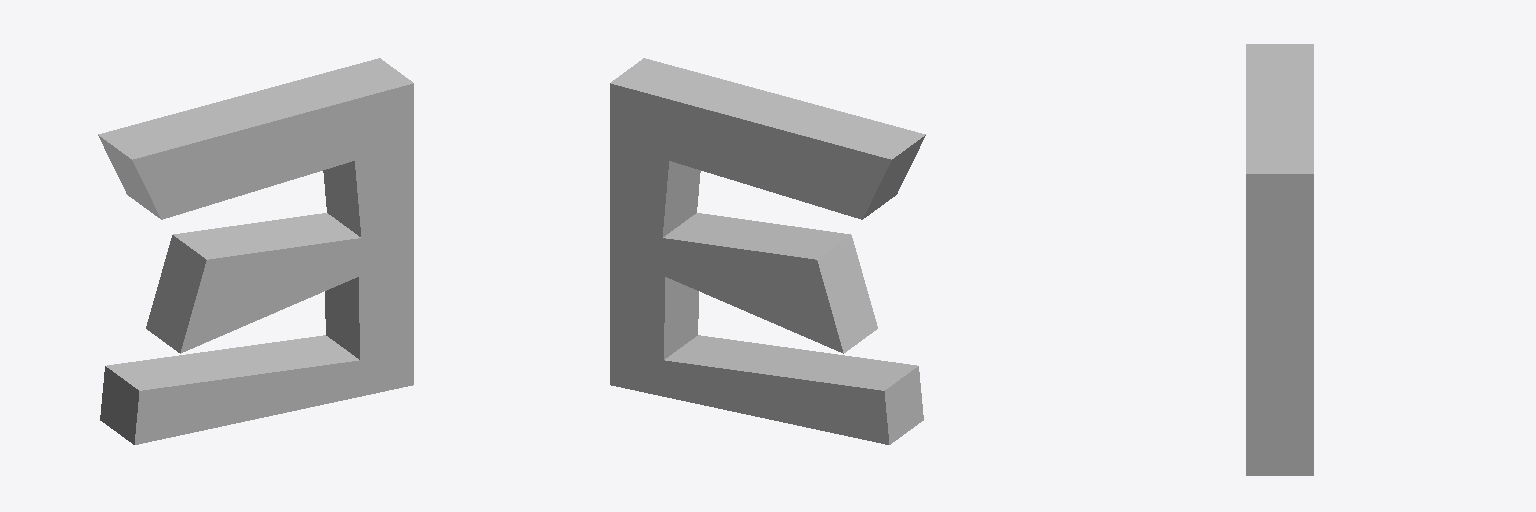
Rendered from error_object.obj.
The picture shows the model from 3 angles: view 1: azimuth 30°, elevation 25°; view 2: azimuth 150°, elevation 25°; view 3: azimuth 270°, elevation 25°; orthographic projection.
Visible parts, largest first — view 1: Plane; view 2: Plane; view 3: Plane.
Part boxes in pixels (left/top/right/bottom): Plane: left=98, top=58, right=413, bottom=444; Plane: left=610, top=58, right=925, bottom=444; Plane: left=1246, top=44, right=1313, bottom=475.
Bounding box in the file's own units: 1.96 × 2 × 0.4137.